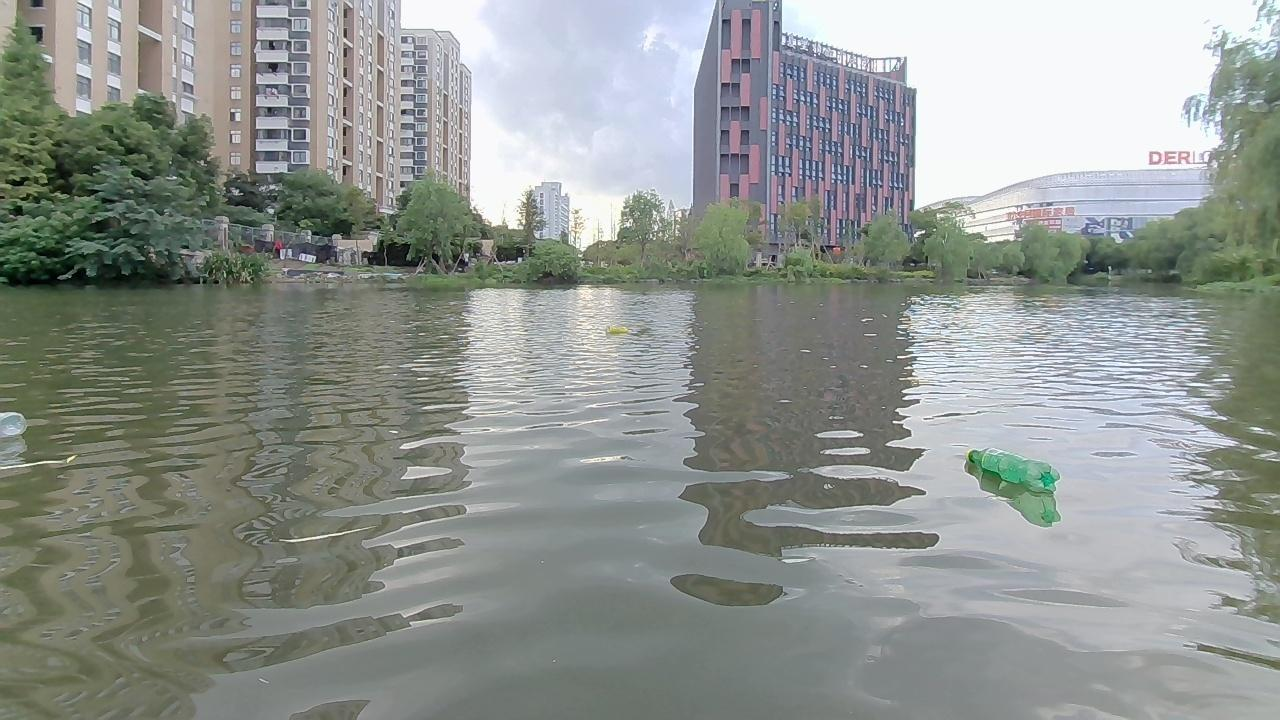bottle: (965, 439, 1061, 497), (0, 407, 33, 439), (600, 317, 638, 336)
